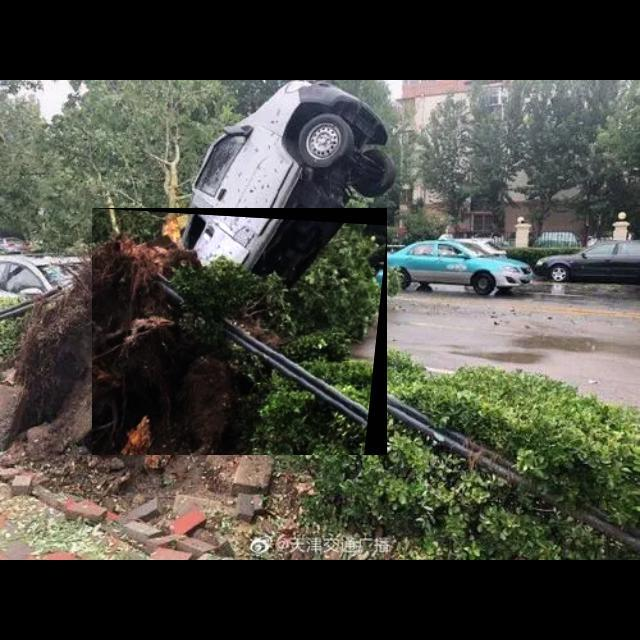fallen_tree: (92, 208, 388, 456)
